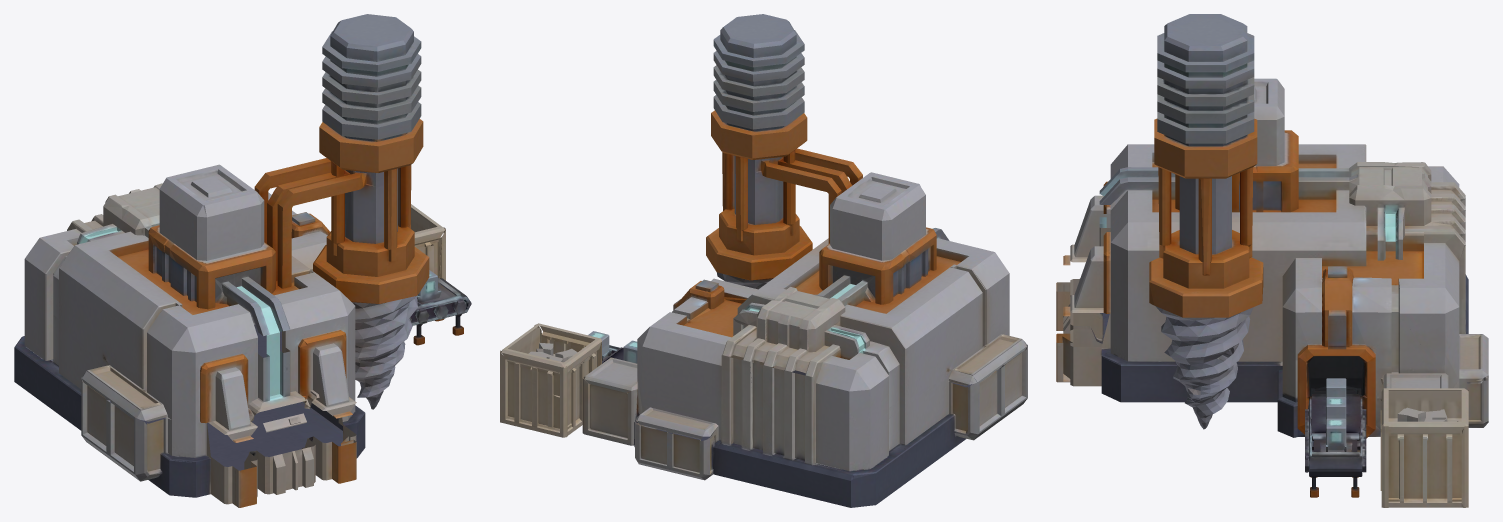
File: metal-extractor.glb
3 views of the same model, side by side, from view 1: azimuth 30°, elevation 25°; view 2: azimuth 150°, elevation 25°; view 3: azimuth 270°, elevation 25° (orthographic). The views are drawn at different scales.
Visible parts, largest first — view 1: tripo_node_01a83b56-29f5-4292-8007-a536f0553ab7; view 2: tripo_node_01a83b56-29f5-4292-8007-a536f0553ab7; view 3: tripo_node_01a83b56-29f5-4292-8007-a536f0553ab7.
Part boxes in pixels (x1,y1,x2,y2): tripo_node_01a83b56-29f5-4292-8007-a536f0553ab7: [14, 14, 471, 507]; tripo_node_01a83b56-29f5-4292-8007-a536f0553ab7: [500, 14, 1027, 507]; tripo_node_01a83b56-29f5-4292-8007-a536f0553ab7: [1056, 14, 1488, 507].
Size of the model in its own units: 0.9973 by 0.8525 by 0.8369.
Materials: 1 (1 with a texture image).
